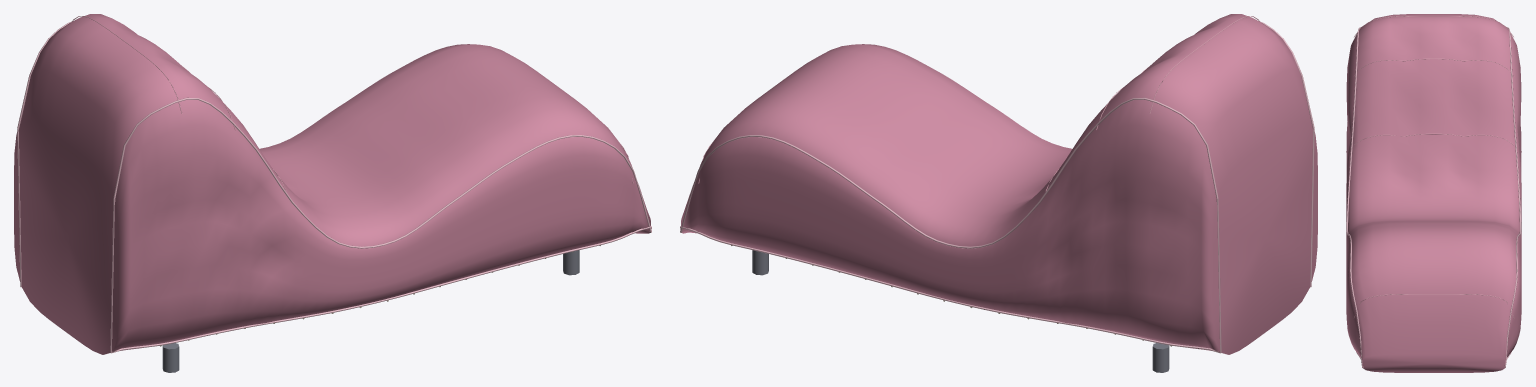
The model's file is chaise-longue-burgundy.glb.
3 renders of one model, left to right at view 1: azimuth 30°, elevation 25°; view 2: azimuth 150°, elevation 25°; view 3: azimuth 270°, elevation 25°, orthographic. The views are drawn at different scales.
Parts seen in each view (by area): view 1: chaise_longue_granate; view 2: chaise_longue_granate; view 3: chaise_longue_granate.
Boxes of the visible parts, x1,y1,x2,y2 form: chaise_longue_granate: [14, 14, 651, 372]; chaise_longue_granate: [680, 14, 1317, 372]; chaise_longue_granate: [1346, 14, 1521, 372].
Size of the model in its own units: 2.01 by 1.06 by 0.81.
